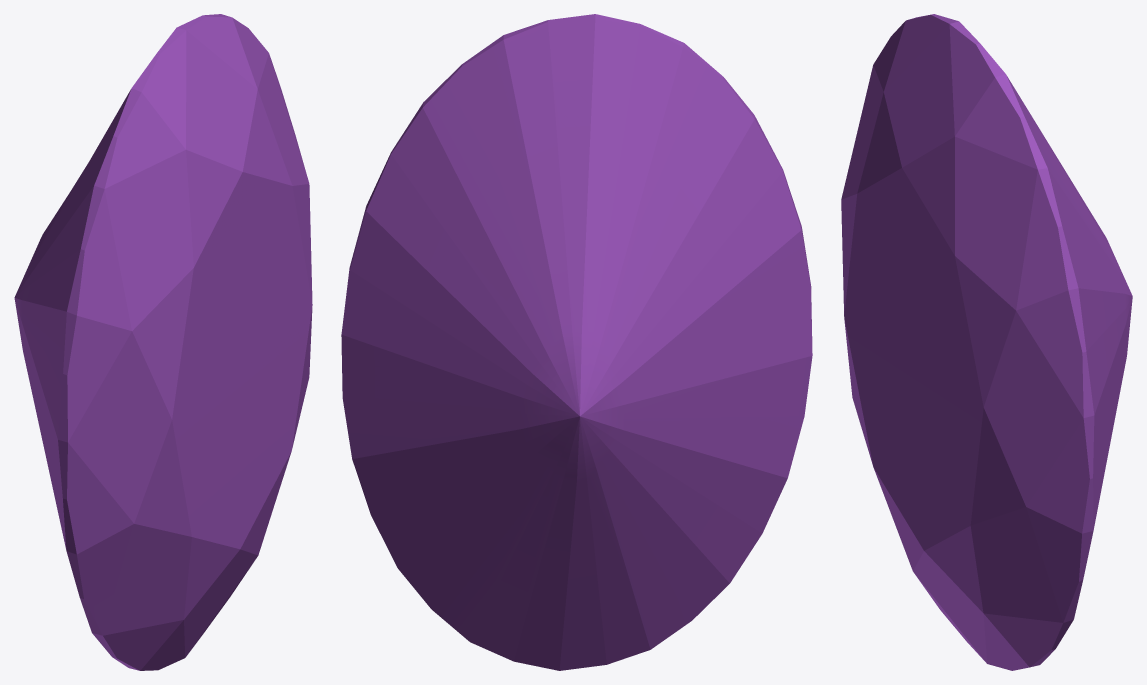
The model's file is TR2_8shapes_Oval_Classic_Stone.001 2.glb.
3 renders of one model, left to right at view 1: azimuth 30°, elevation 25°; view 2: azimuth 150°, elevation 25°; view 3: azimuth 270°, elevation 25°, orthographic. The views are drawn at different scales.
Visible parts, largest first — view 1: TR2_8shapes_Oval_Classic_Stone.001; view 2: TR2_8shapes_Oval_Classic_Stone.001; view 3: TR2_8shapes_Oval_Classic_Stone.001.
Part boxes in pixels (x1,y1,x2,y2): TR2_8shapes_Oval_Classic_Stone.001: (14,14,312,670); TR2_8shapes_Oval_Classic_Stone.001: (341,14,812,670); TR2_8shapes_Oval_Classic_Stone.001: (841,14,1132,670).
Bounding box in the file's own units: 0.3819 × 0.6564 × 0.2745.
